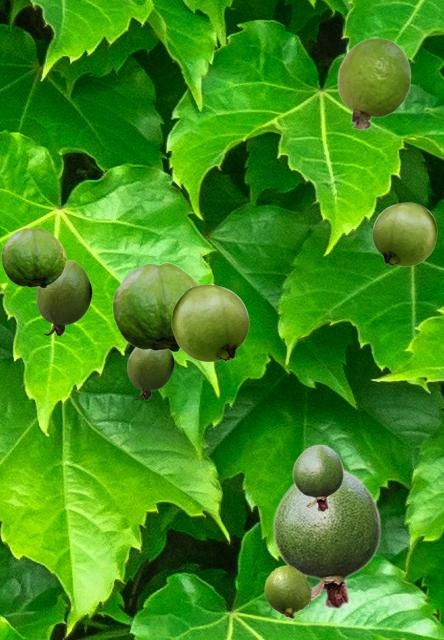guava: (272, 468, 381, 609), (112, 262, 199, 351), (337, 37, 410, 129), (171, 284, 248, 361), (36, 260, 91, 335), (372, 202, 436, 265), (1, 227, 65, 287), (292, 444, 343, 511), (264, 565, 310, 617), (127, 348, 173, 399)
